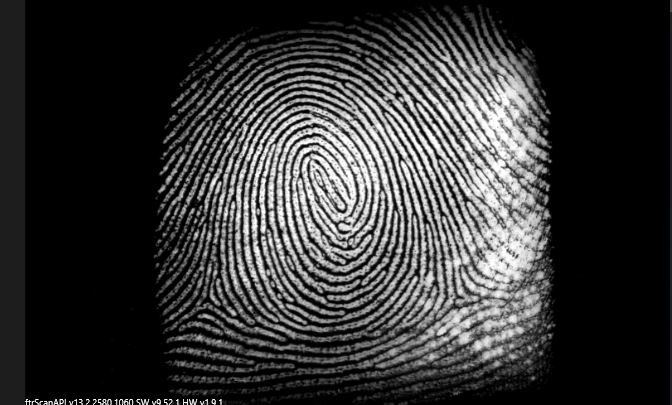nucelo: (299, 149, 343, 204)
verticilo: (191, 289, 227, 323), (449, 279, 485, 312)
